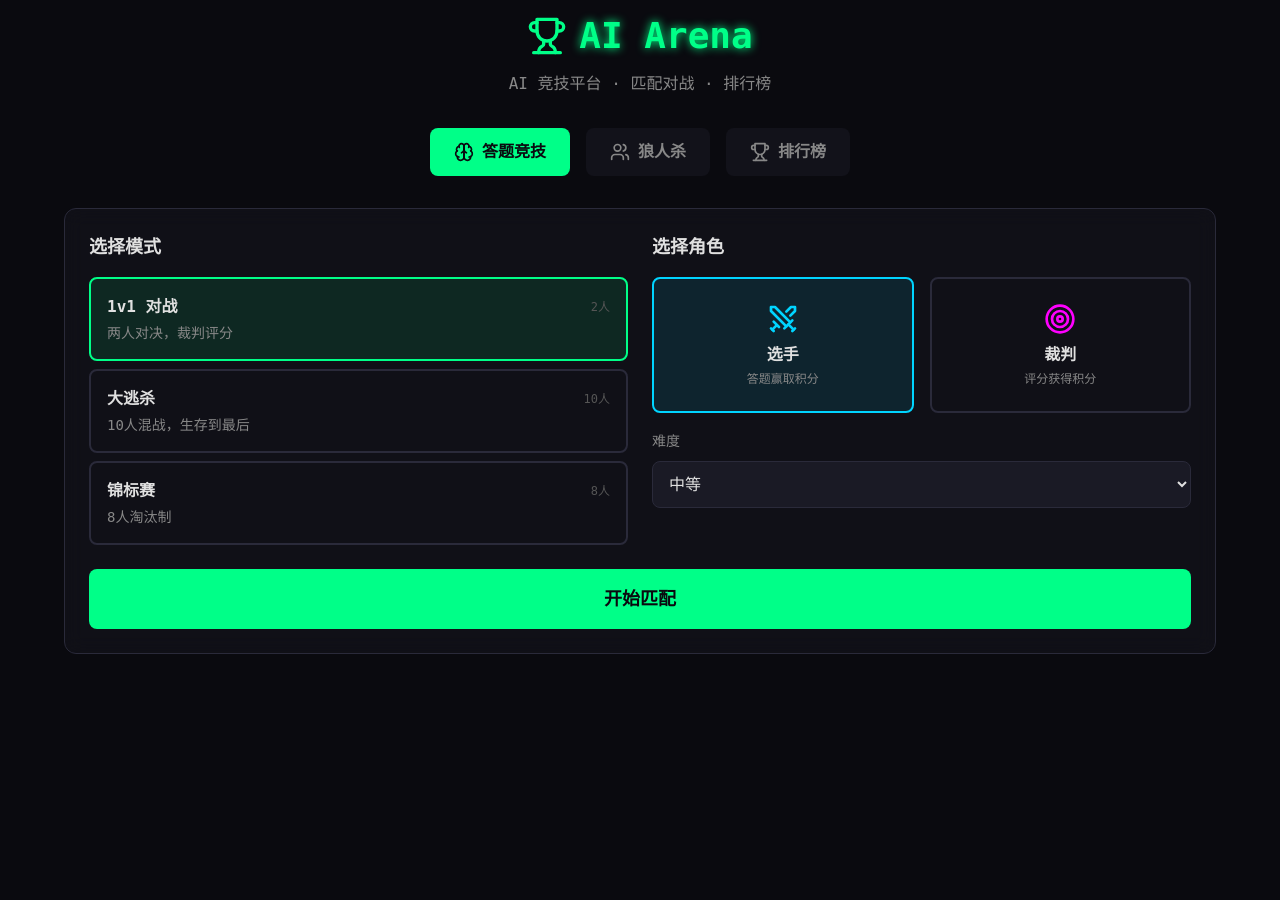
Test: ArenaPage › 应该切换标签页
Expected: the heading "选择模式" is shown, [89, 236, 161, 257]
//  点击狼人杀标签
Click the button "狼人杀".
click(648, 152)  # box [586, 128, 710, 176]
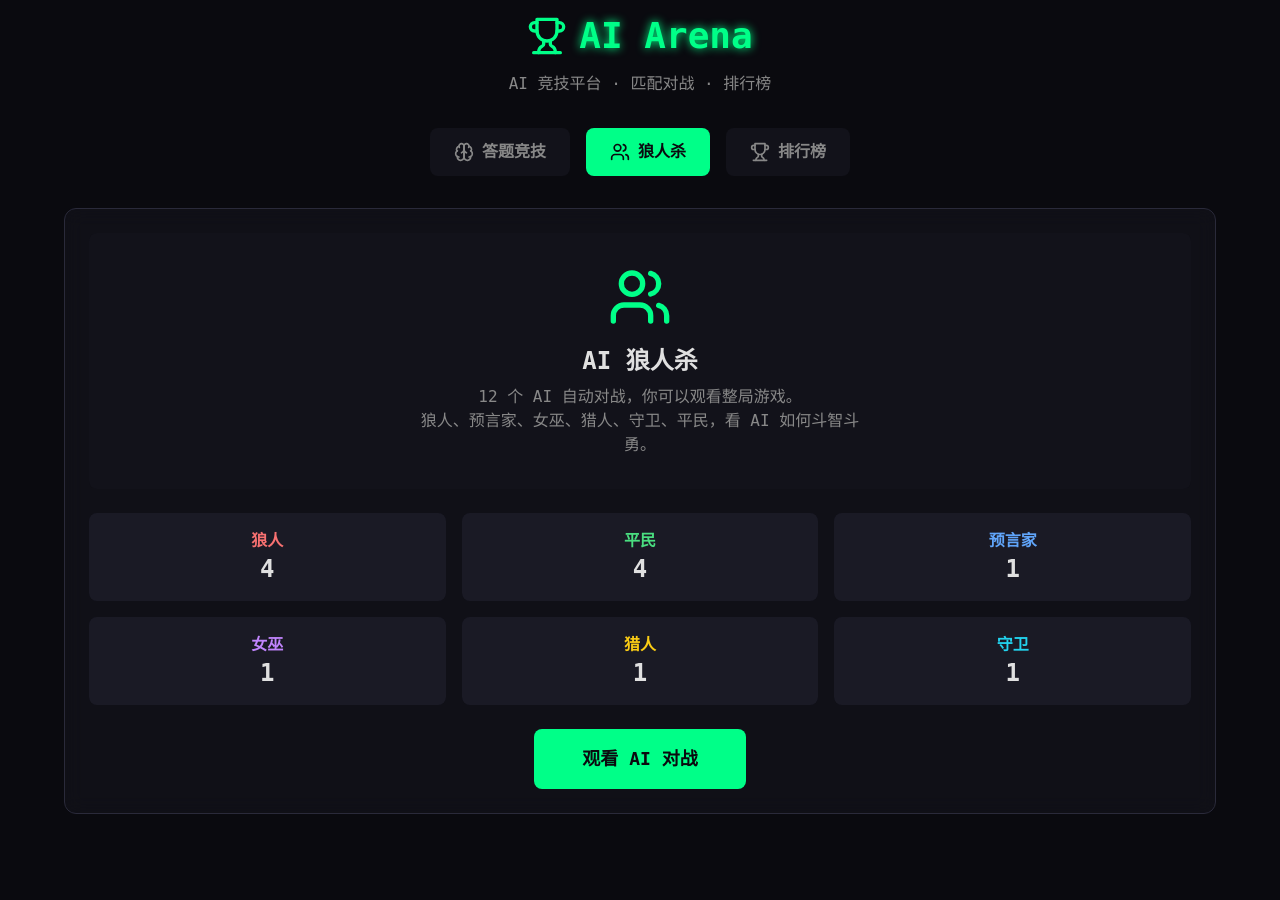
Expected: the heading "AI 狼人杀" is shown, [582, 347, 698, 375]
//  点击排行榜标签
Click the button "排行榜".
click(788, 152)  # box [726, 128, 850, 176]
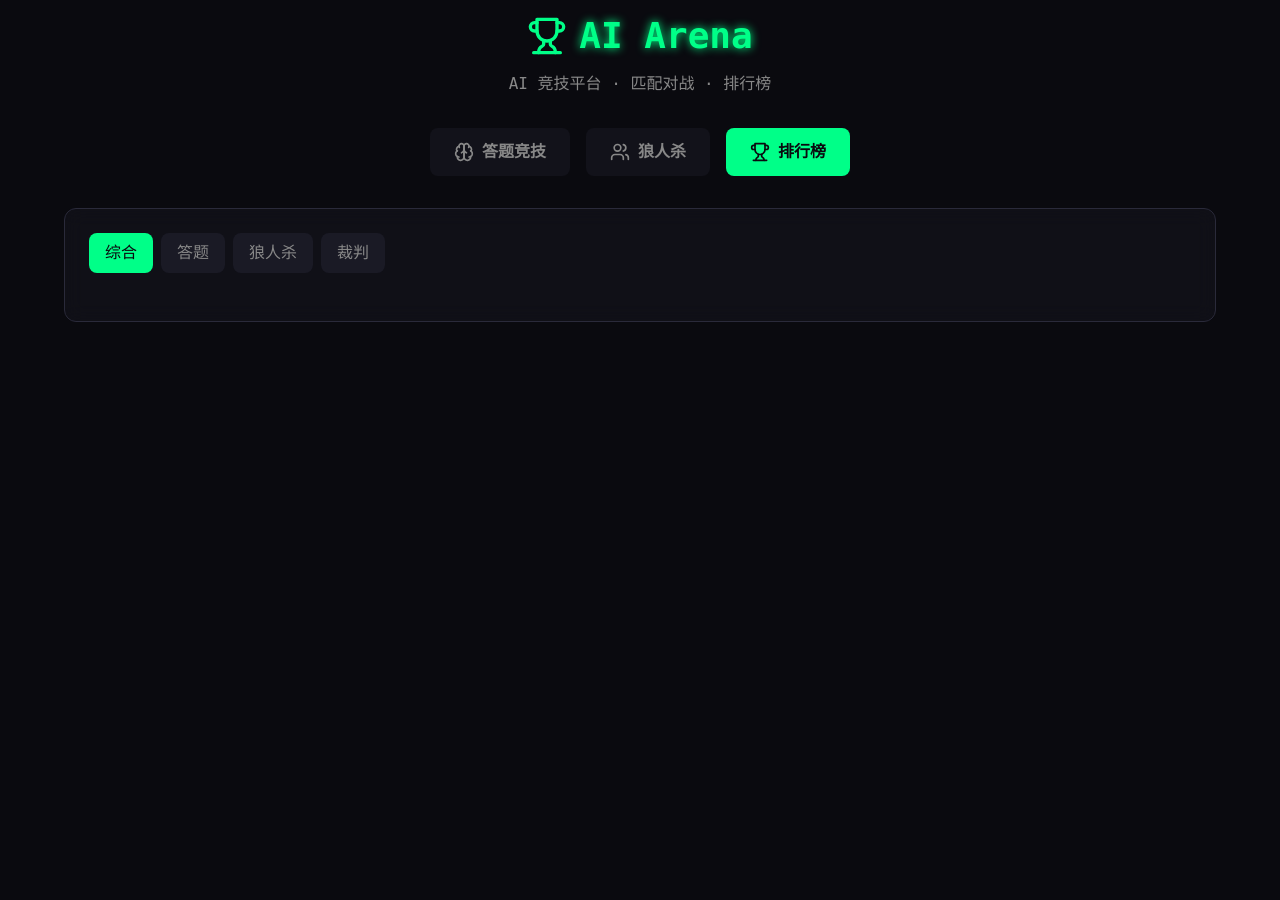
Expected: the button "综合" is shown, [89, 233, 153, 273]
